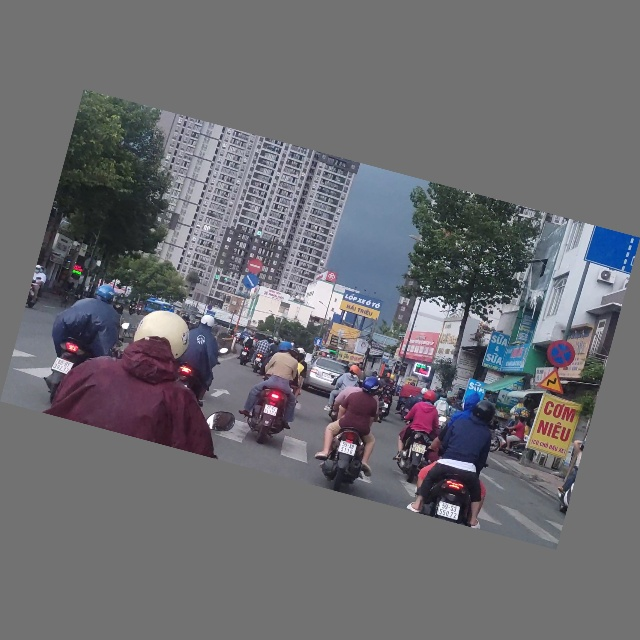I.407a: (313, 338, 323, 347)
I.434a: (381, 352, 391, 364)
P.102: (246, 258, 264, 276)
P.130: (544, 337, 579, 372)
R.302a: (241, 272, 262, 292)
W.202b: (536, 365, 570, 397)
